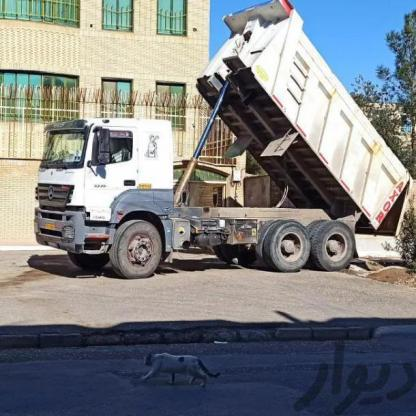Truck: (25, 113, 386, 283)
